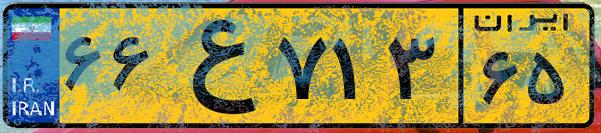1: (330, 28, 385, 110)
3: (385, 28, 445, 110)
5: (525, 38, 570, 115)
6: (57, 26, 110, 100), (475, 38, 525, 113), (110, 28, 158, 98)
7: (270, 28, 330, 110)
ع: (158, 12, 270, 120)
